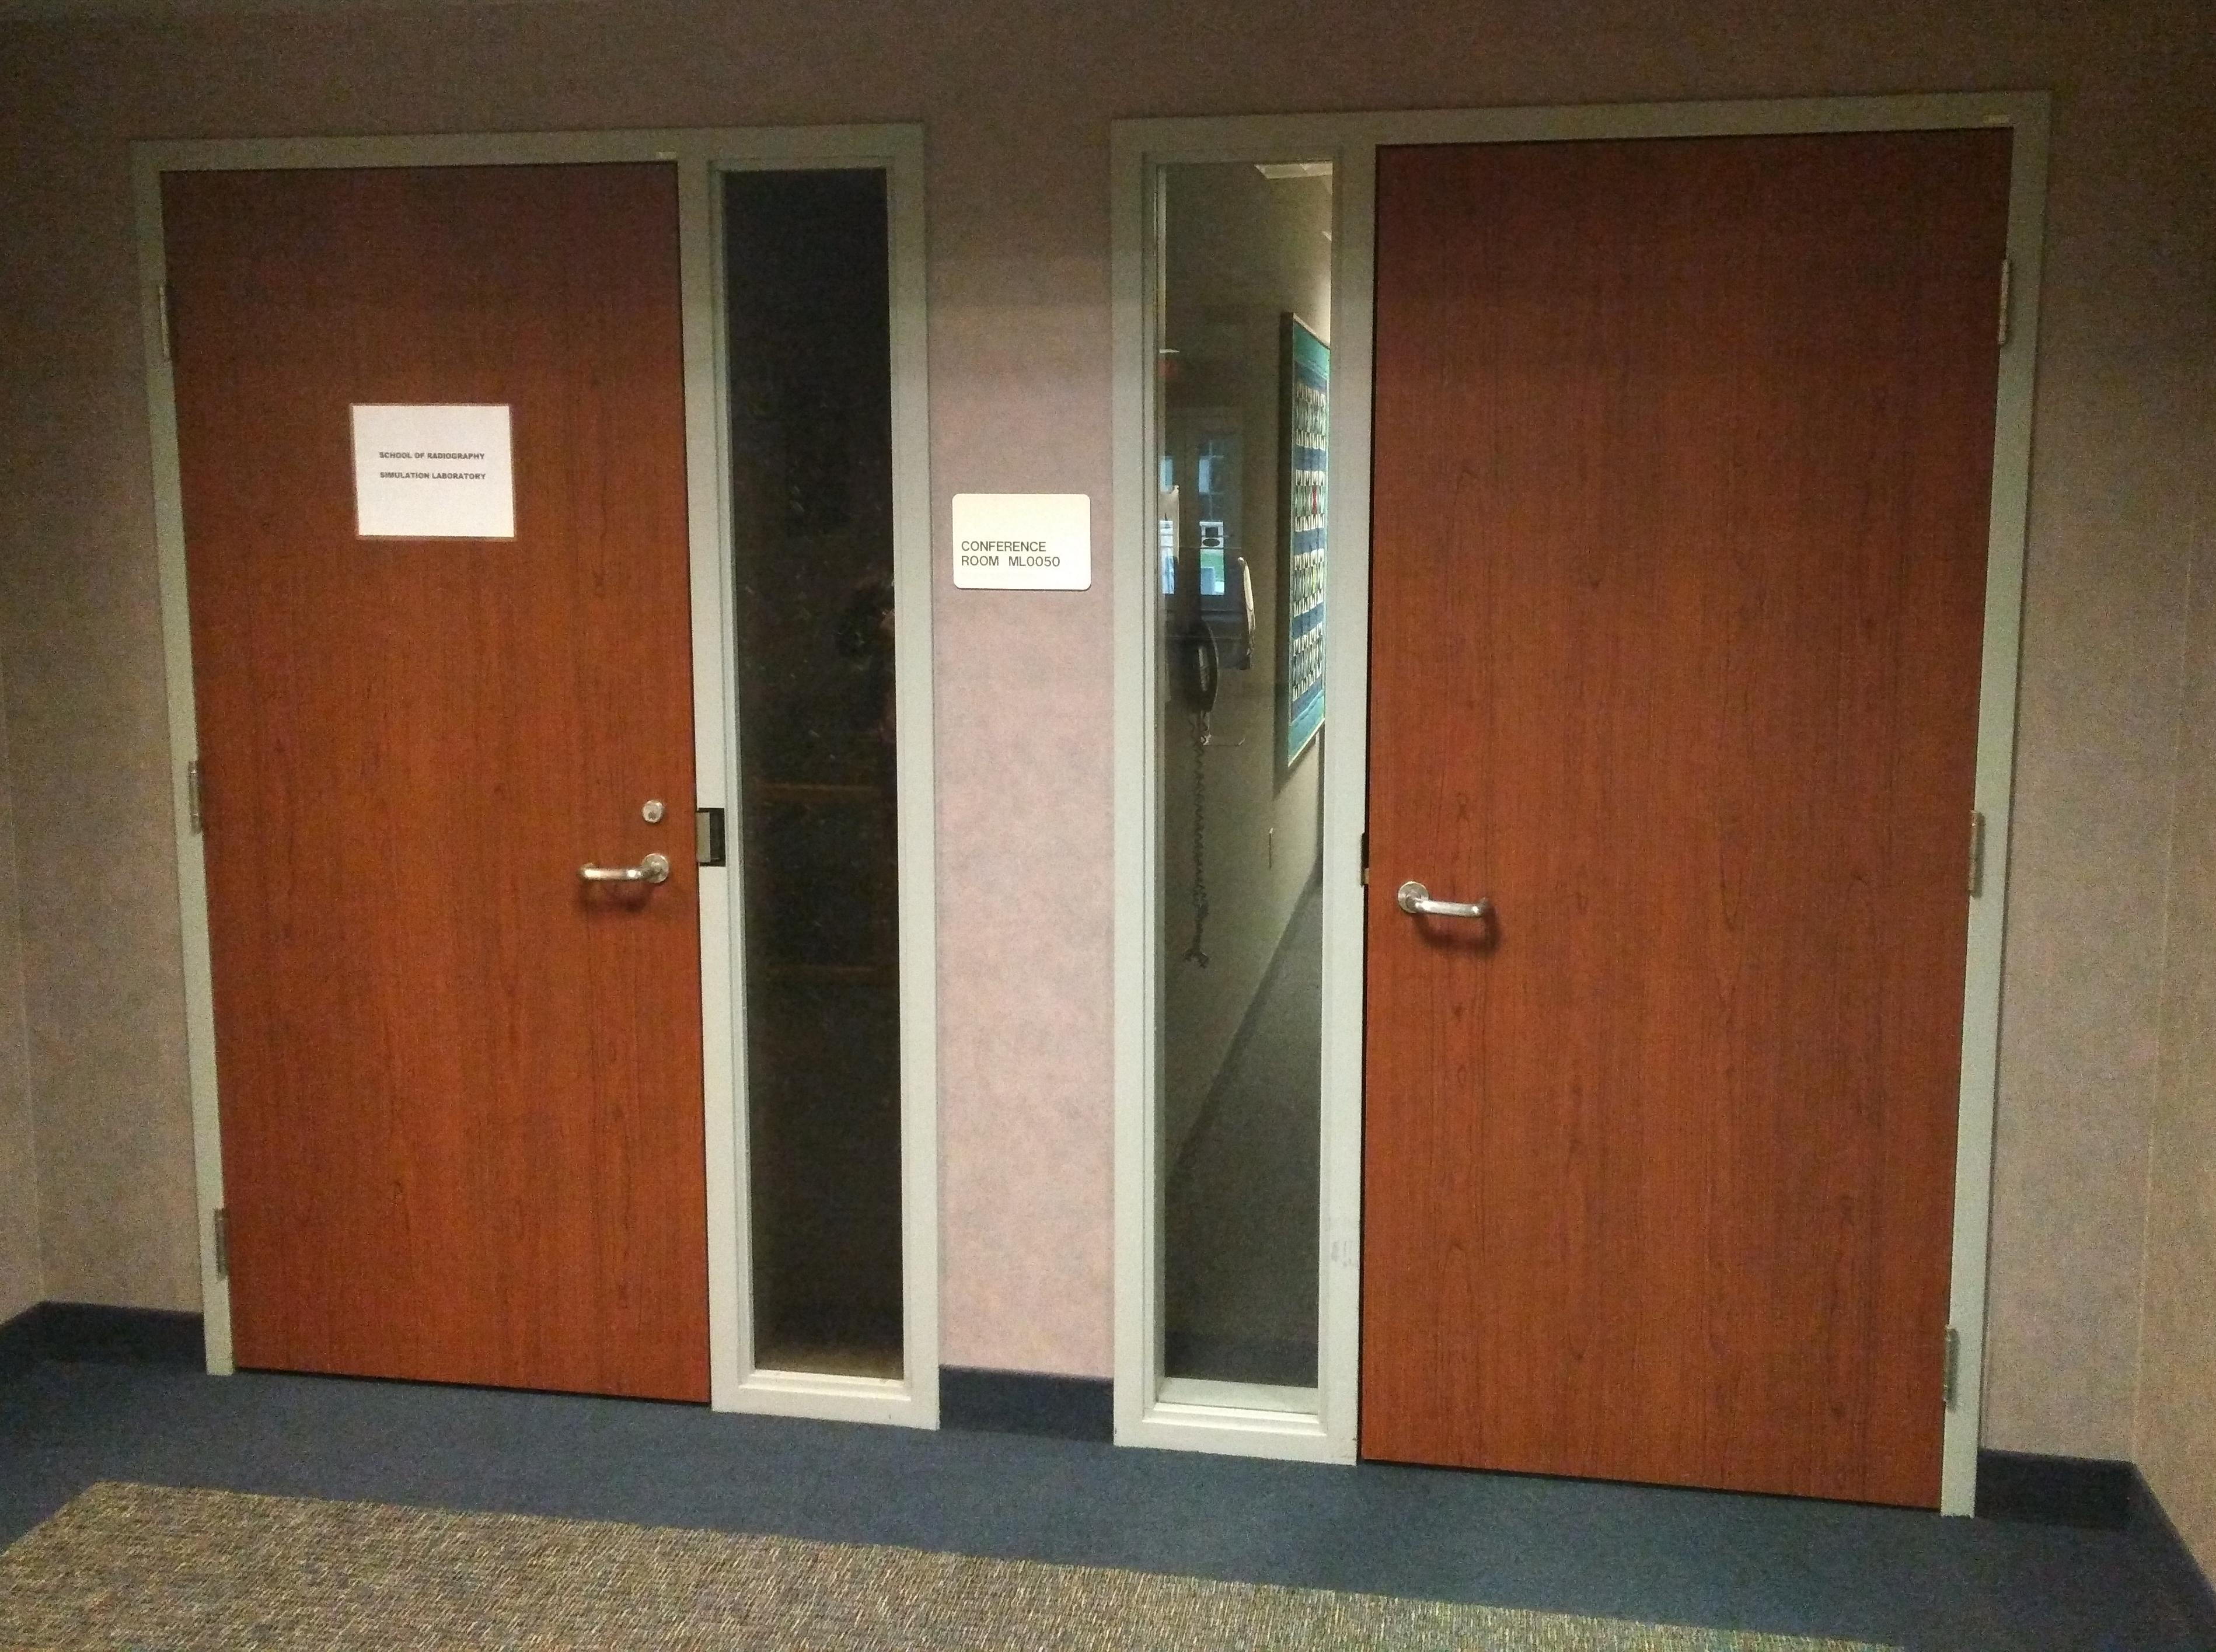door: (1319, 94, 2055, 1524), (130, 130, 753, 1413)
sign: (352, 404, 517, 538), (947, 491, 1092, 590)
